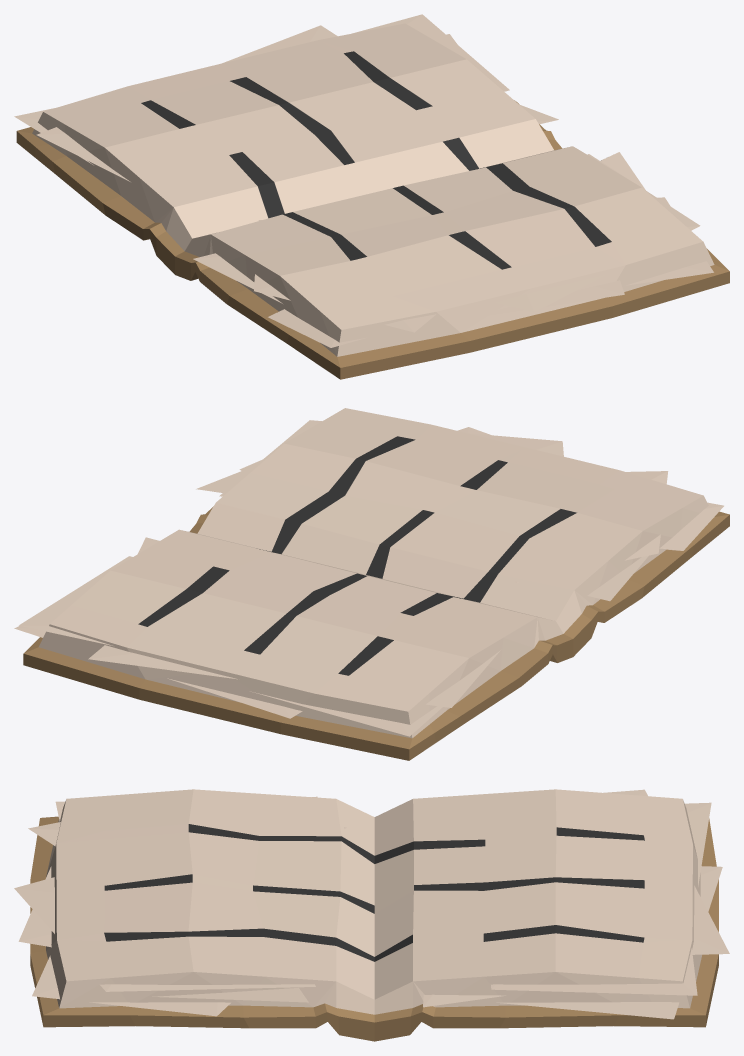
File: Book01_Open.fbx
The picture shows the model from 3 angles, top to bottom: view 1: azimuth 30°, elevation 25°; view 2: azimuth 150°, elevation 25°; view 3: azimuth 270°, elevation 25°; orthographic projection. The views are drawn at different scales.
Parts seen in each view (by area): view 1: Book01_Open; view 2: Book01_Open; view 3: Book01_Open.
Boxes of the visible parts, <box> form: Book01_Open: <box>14,14,729,379</box>; Book01_Open: <box>14,408,729,760</box>; Book01_Open: <box>14,789,729,1041</box>.
Bounding box in the file's own units: 1.03 × 0.142 × 1.44.
